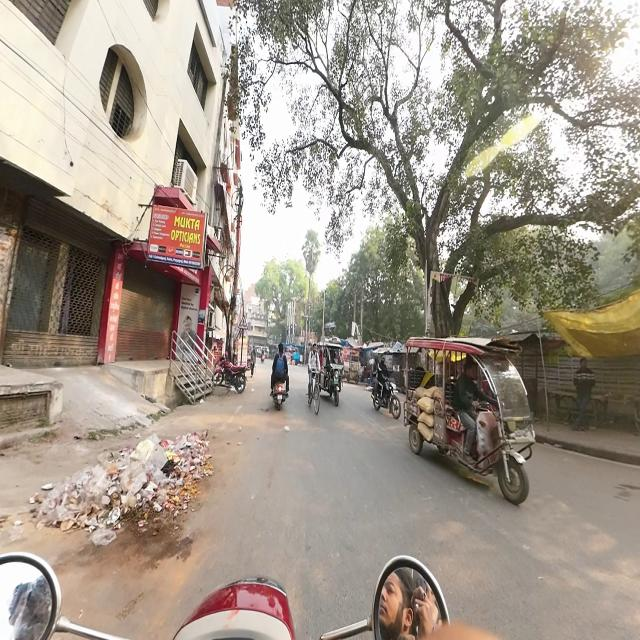Garbage: (114, 442, 173, 512), (45, 477, 119, 522), (169, 434, 210, 490)
